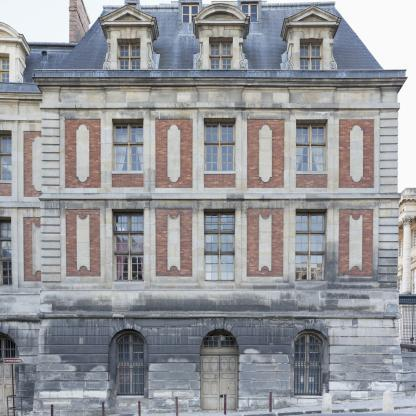Building Outline: (31, 0, 408, 413)
Cornice: (280, 4, 342, 41), (98, 4, 159, 41), (192, 3, 250, 40)
Door: (200, 329, 239, 412), (200, 354, 238, 412)
Facade: (41, 84, 398, 415)
Floor: (40, 85, 399, 200), (41, 200, 401, 299)
Floor Slab: (40, 77, 399, 85), (40, 291, 399, 298), (40, 192, 399, 199)
Ground Floor: (40, 298, 399, 415)
Molding: (33, 78, 407, 92)
Roof: (56, 5, 384, 69)
Sill: (38, 193, 402, 199)
Top Floor: (57, 0, 385, 69)
Window: (108, 329, 149, 414), (290, 329, 331, 407), (112, 209, 144, 281), (204, 209, 235, 282), (296, 209, 327, 281), (112, 119, 144, 171), (296, 119, 328, 171), (204, 118, 235, 170), (294, 344, 323, 396), (116, 344, 144, 396), (209, 37, 233, 69), (117, 39, 141, 70), (300, 39, 323, 69), (201, 331, 237, 348), (241, 2, 259, 22), (182, 3, 200, 23), (294, 333, 323, 343), (116, 333, 144, 343), (128, 3, 136, 14)
dont: (383, 390, 395, 413), (322, 393, 333, 413), (269, 391, 272, 413), (224, 394, 227, 415), (101, 401, 105, 416), (175, 396, 178, 416), (138, 400, 141, 416), (51, 404, 54, 416)
